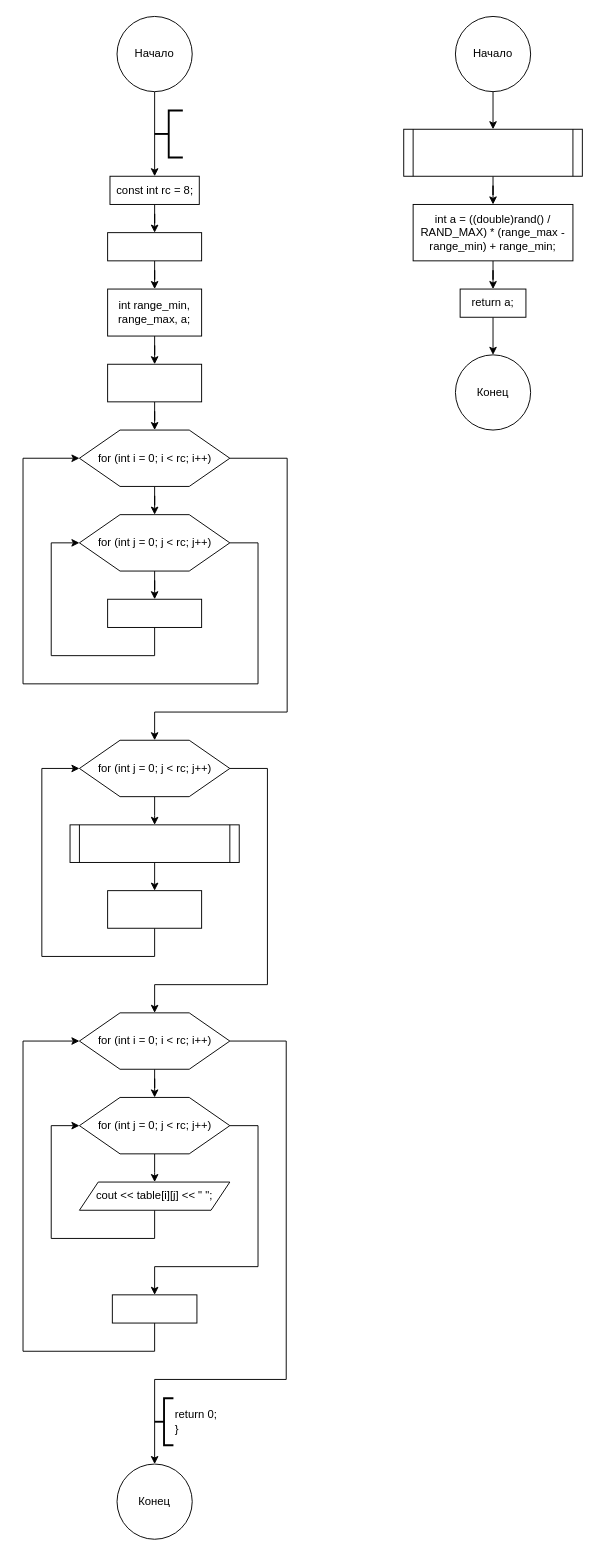
The diagram is 599 pixels wide and 1556 high, and some of its shapes have lost their labels. Here are the shapes that lost their labels. From the top down, the box of each, then its label:
(153, 109, 183, 158): #include <iostream> using namespace std; int main() {
(403, 128, 582, 176): int randomize(int range_min, int range_max)
(107, 232, 202, 261): int table[rc][rc];
(107, 363, 202, 402): range_min = 0; range_max = 9;
(107, 598, 202, 627): table[i][j] = 0;
(69, 824, 239, 862): a = randomize(range_min, range_max);
(107, 890, 202, 928): table[i][a] = 1;
(111, 1294, 197, 1323): cout << endl;
